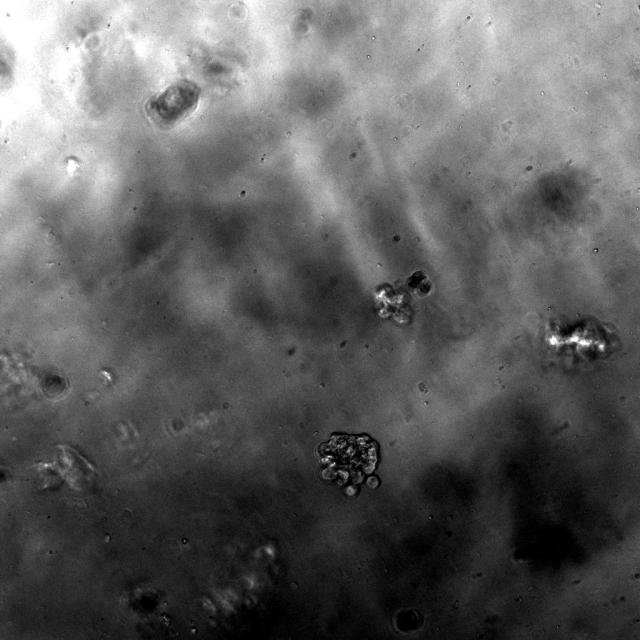organoid: (541, 316, 620, 366), (316, 433, 379, 495), (374, 269, 432, 324), (144, 79, 200, 128), (41, 371, 68, 397)
